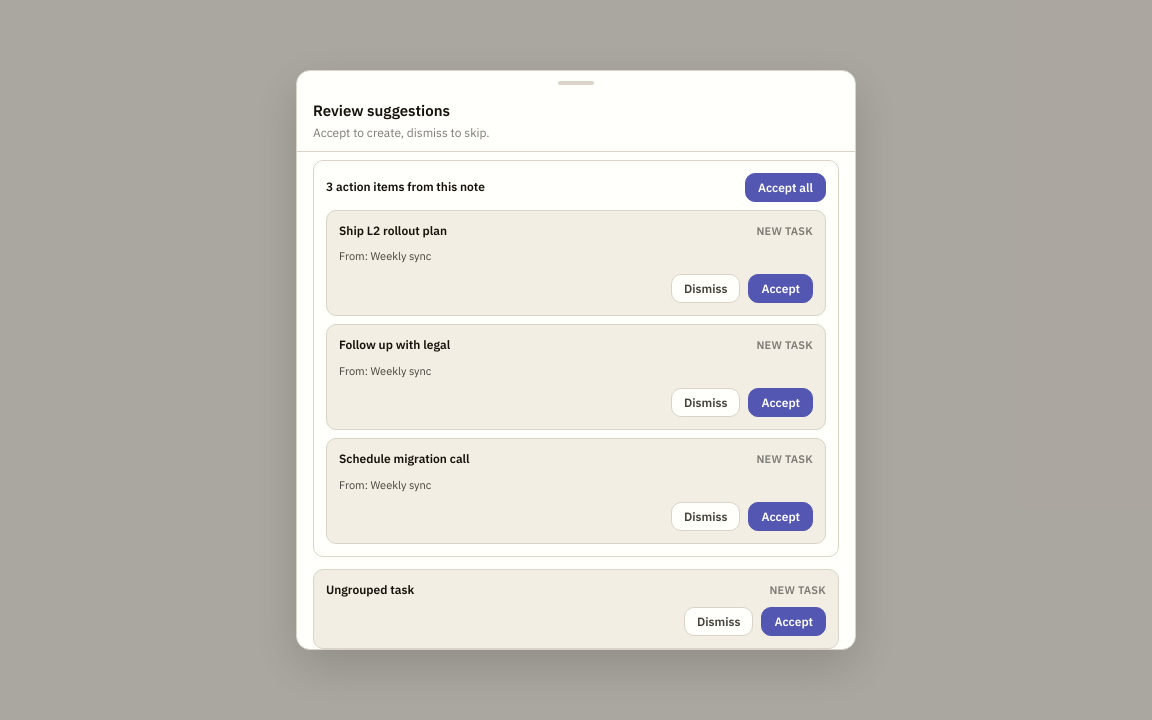
V5ReviewSheet › still supports per-row dismiss within a group
The width and height of the screenshot is (1152, 720).
Expected: the heading "Ship L2 rollout plan" is shown, [339, 223, 447, 238]
Click the button "Dismiss" below "Ship L2 rollout plan": (706, 289) [671, 274, 740, 303]
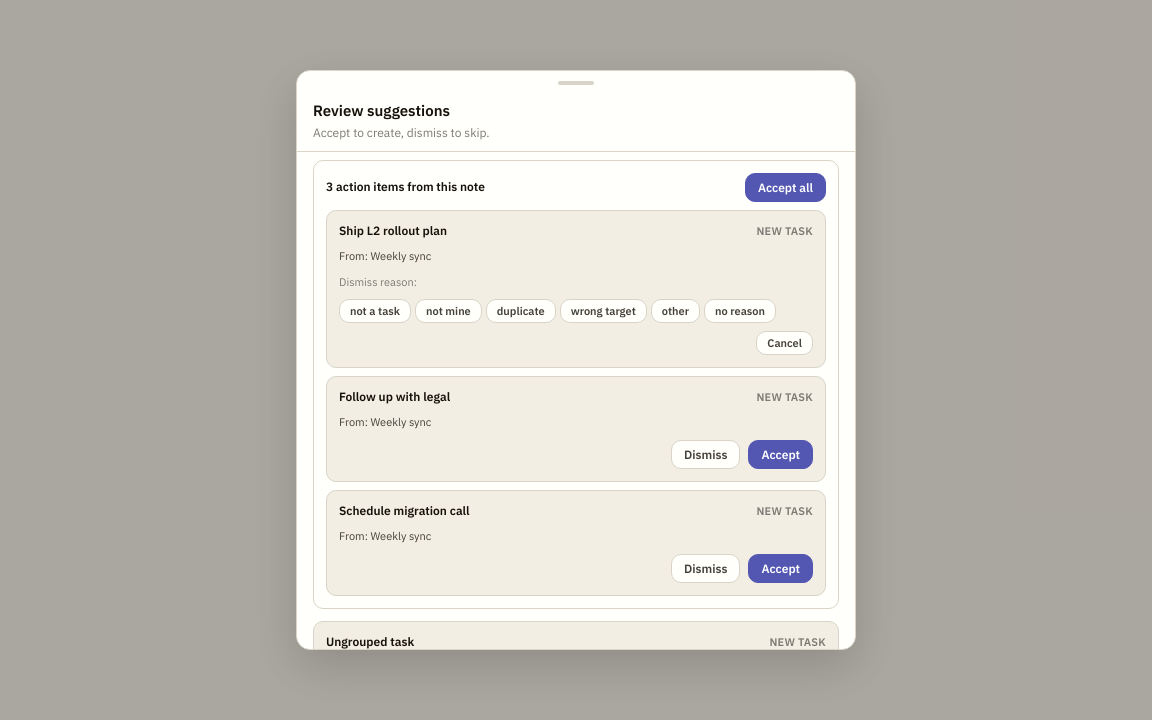
Click the button "no reason": (740, 311) [704, 299, 776, 323]
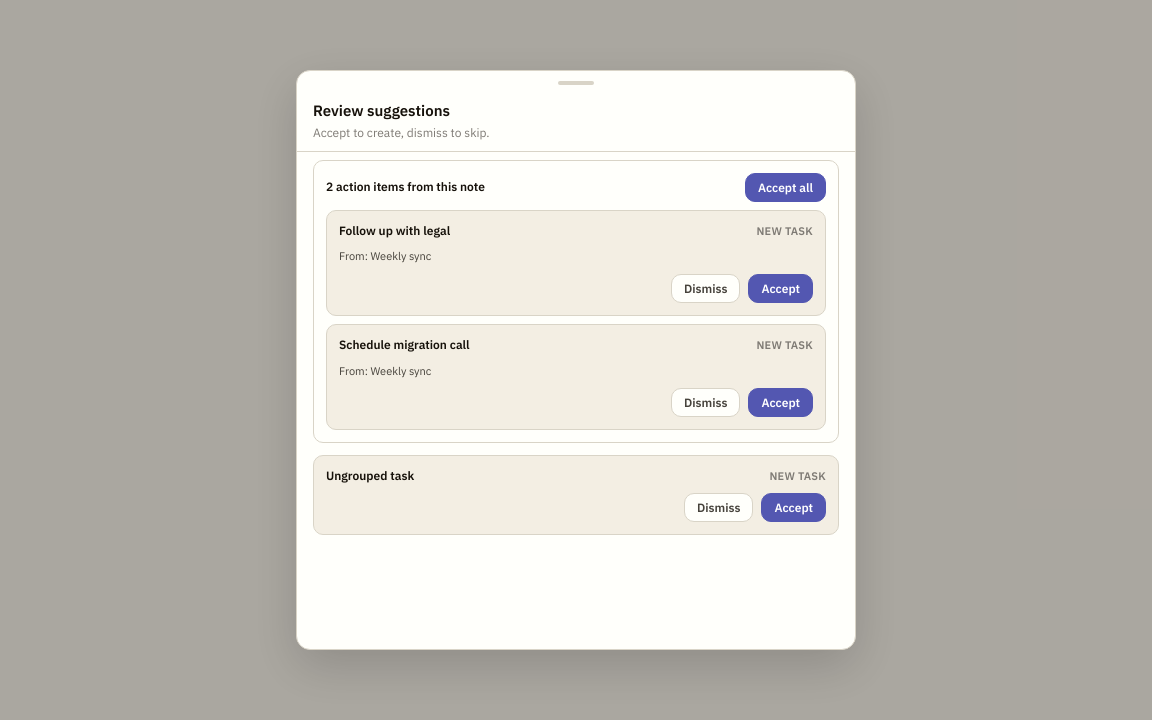
Expected: the heading "Follow up with legal" is shown, [339, 223, 450, 238]
Expected: the heading "Ship L2 rollout plan" is gone
